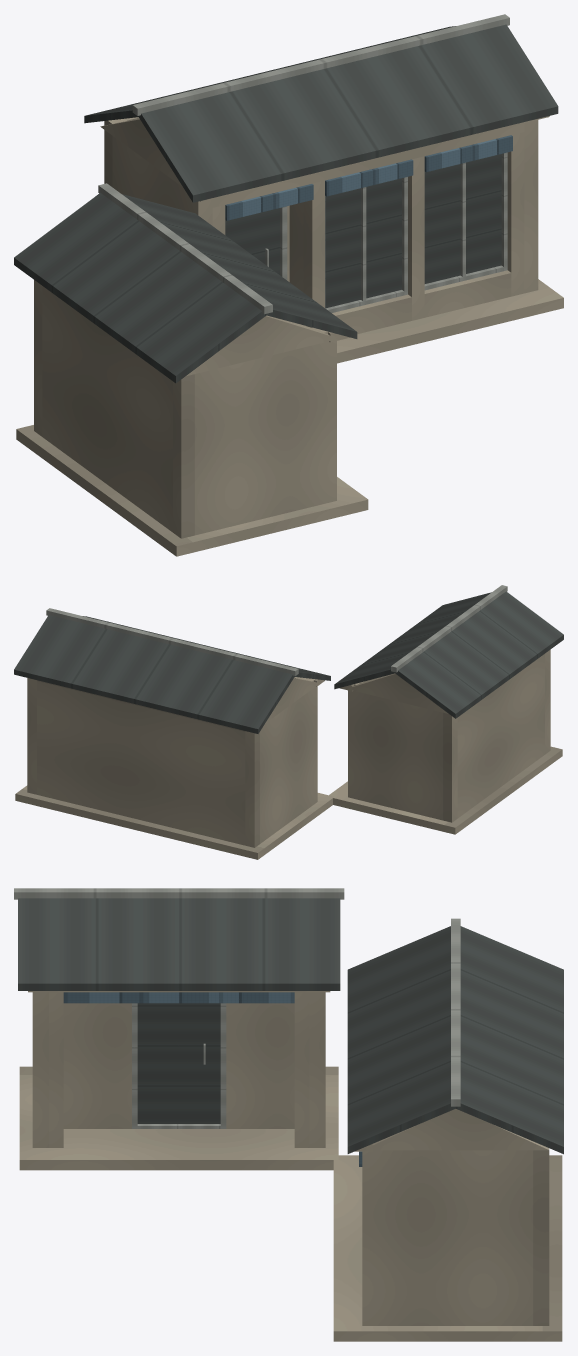
File: andorra-la-vella.glb
3 renders of one model, top to bottom at view 1: azimuth 30°, elevation 25°; view 2: azimuth 150°, elevation 25°; view 3: azimuth 270°, elevation 25°, orthographic. The views are drawn at different scales.
Parts seen in each view (by area): view 1: andorra-la-vella; view 2: andorra-la-vella; view 3: andorra-la-vella.
Boxes of the visible parts, bbox=[...] form: andorra-la-vella: bbox=[14, 14, 563, 556]; andorra-la-vella: bbox=[14, 585, 563, 859]; andorra-la-vella: bbox=[14, 888, 563, 1341].
Size of the model in its own units: 7.03 by 3 by 6.1.
1 material, 1 textured.
